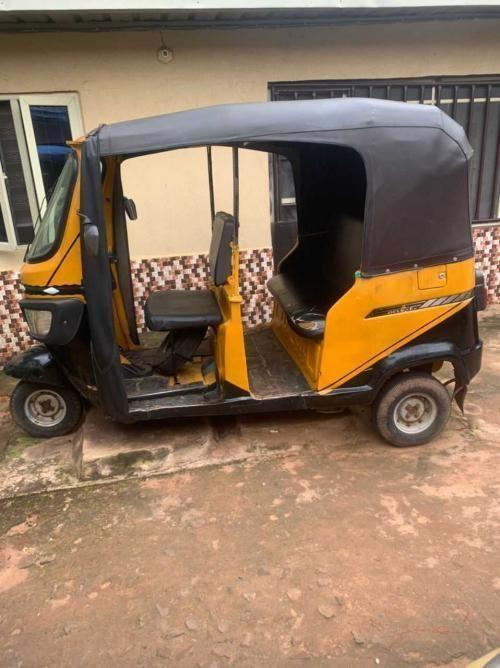keke: (0, 87, 479, 456)
